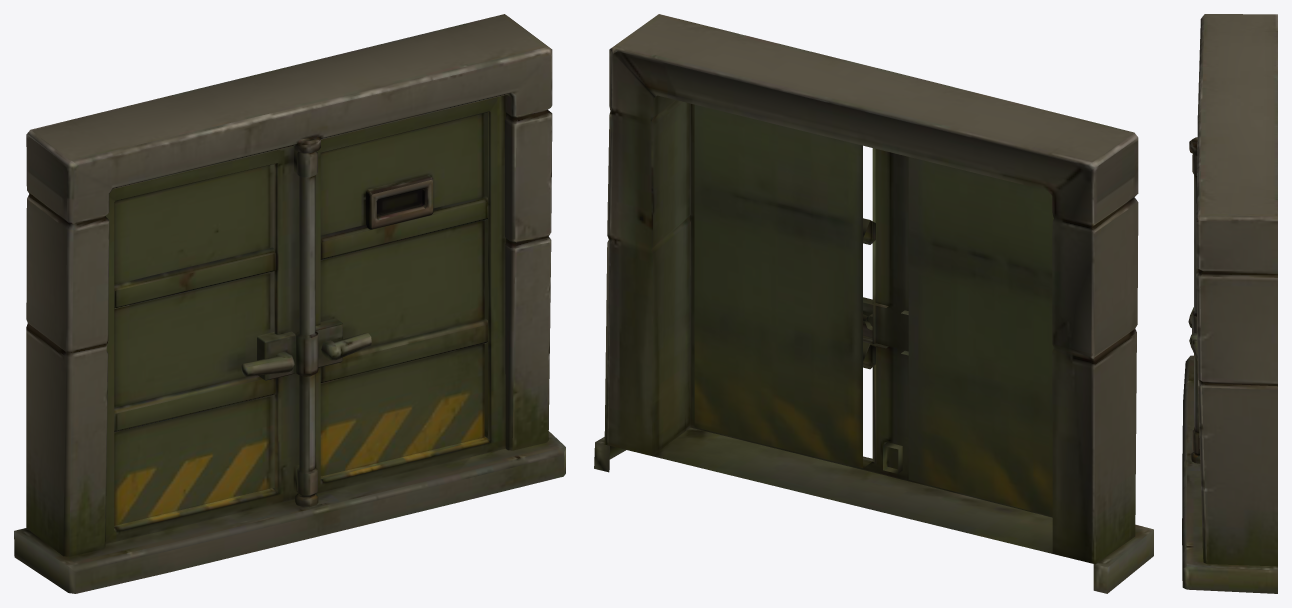
The model's file is SewerDoor_ServiceTall_90s.fbx.
3 views of the same model, side by side, from view 1: azimuth 30°, elevation 25°; view 2: azimuth 150°, elevation 25°; view 3: azimuth 270°, elevation 25° (orthographic). The views are drawn at different scales.
Parts seen in each view (by area): view 1: SewerDoor_ServiceTall_90s; view 2: SewerDoor_ServiceTall_90s; view 3: SewerDoor_ServiceTall_90s.
Boxes of the visible parts, bbox=[...] form: SewerDoor_ServiceTall_90s: bbox=[14, 14, 565, 593]; SewerDoor_ServiceTall_90s: bbox=[594, 14, 1153, 593]; SewerDoor_ServiceTall_90s: bbox=[1182, 14, 1277, 593].
Size of the model in its own units: 503 by 399 by 93.76.
1 material, 1 textured.
